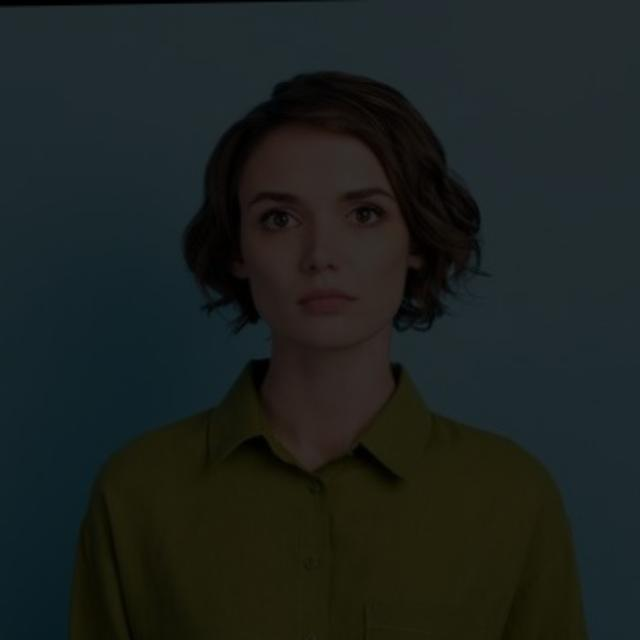Natural: (209, 107, 440, 367)
